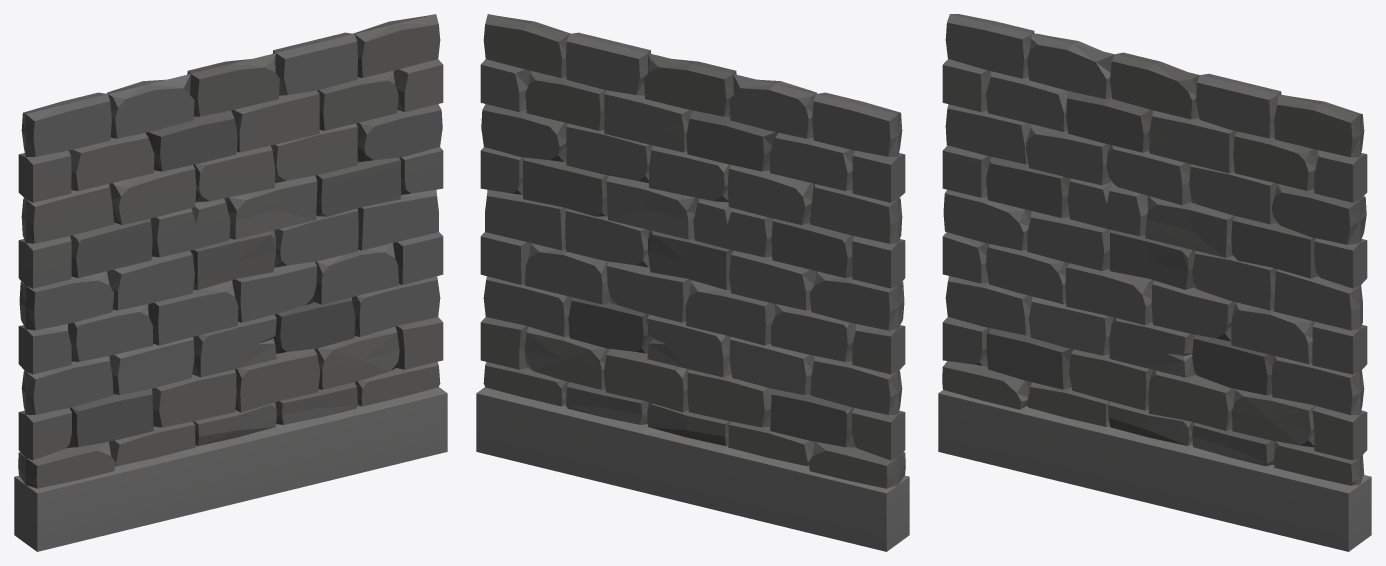
File: Wall_05_dra.glb
3 renders of one model, left to right at view 1: azimuth 30°, elevation 25°; view 2: azimuth 150°, elevation 25°; view 3: azimuth 330°, elevation 25°, orthographic.
Parts seen in each view (by area): view 1: Wall_05; view 2: Wall_05; view 3: Wall_05.
Boxes of the visible parts, x1,y1,x2,y2 form: Wall_05: [14, 14, 447, 551]; Wall_05: [476, 14, 909, 551]; Wall_05: [938, 14, 1371, 551].
Size of the model in its own units: 4 by 4 by 0.3869.
1 material, 1 textured.
